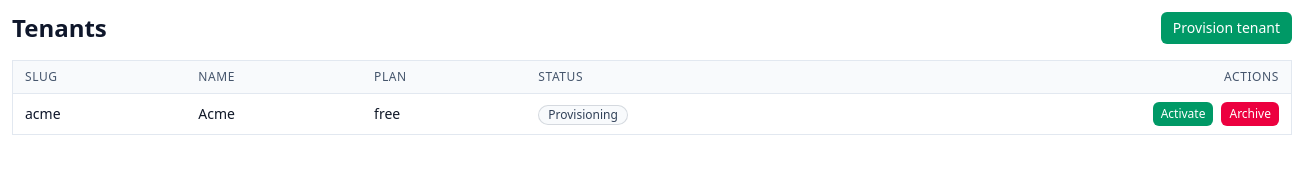
Test: TenantManagement › activates -> shows active pill
The image size is (1292, 172).
Click the button with test id "tenant-action-activate-acme": [1183, 114] box [1153,102,1214,126]
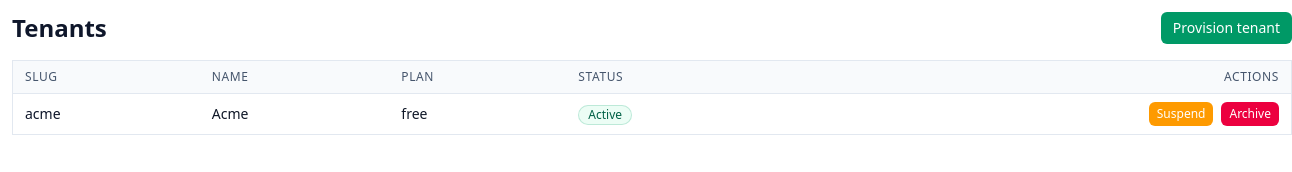
Expected: the message "Active" is shown, [578,104,632,124]
